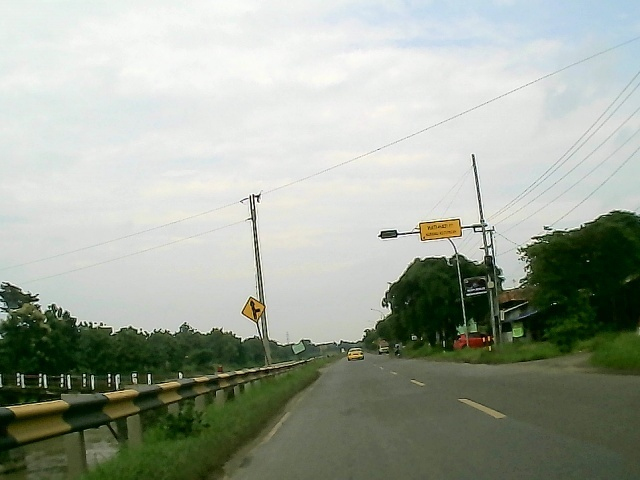Simpang kanan dengan prioritas: (240, 294, 267, 324)
